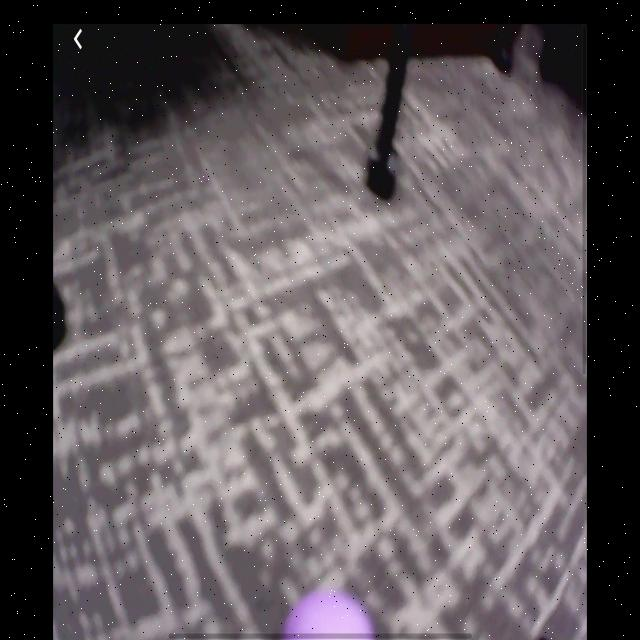ball: (283, 591, 376, 640)
